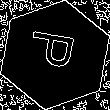P_E: (25, 33, 85, 77)
